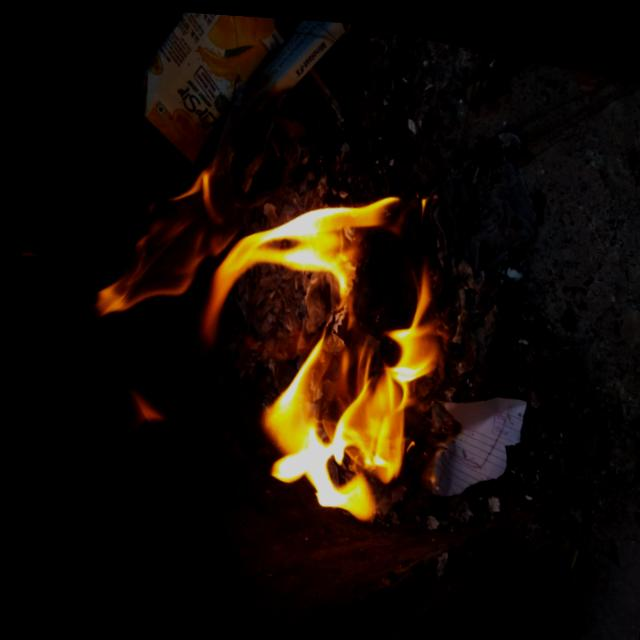helmet: (53, 128, 471, 535)
